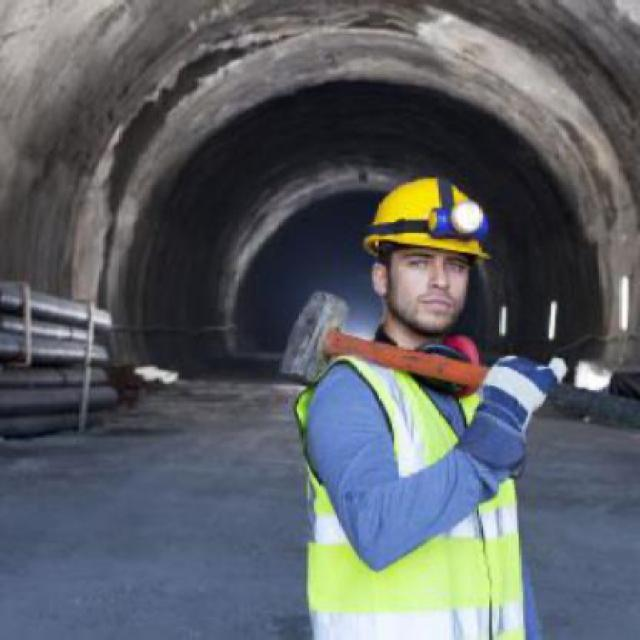helmet: (355, 165, 494, 347)
